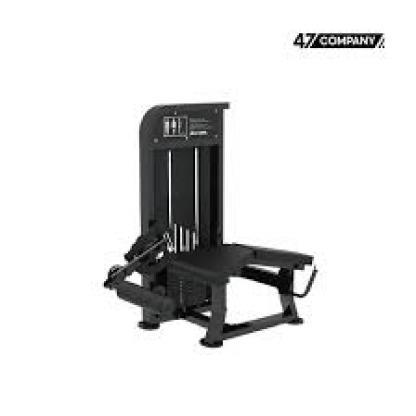reg curl machine: (101, 101, 323, 349)
